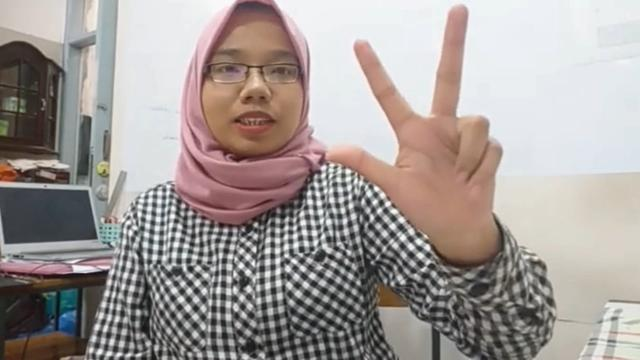K: (322, 6, 502, 226)
